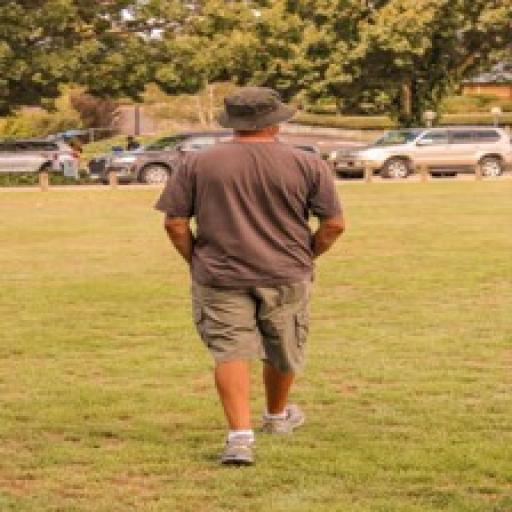human: (156, 86, 352, 480)
